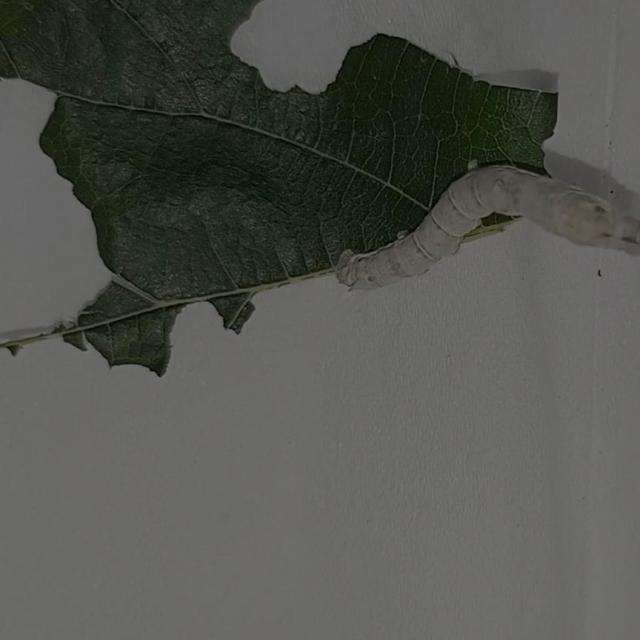Healthy: (329, 152, 640, 315)
